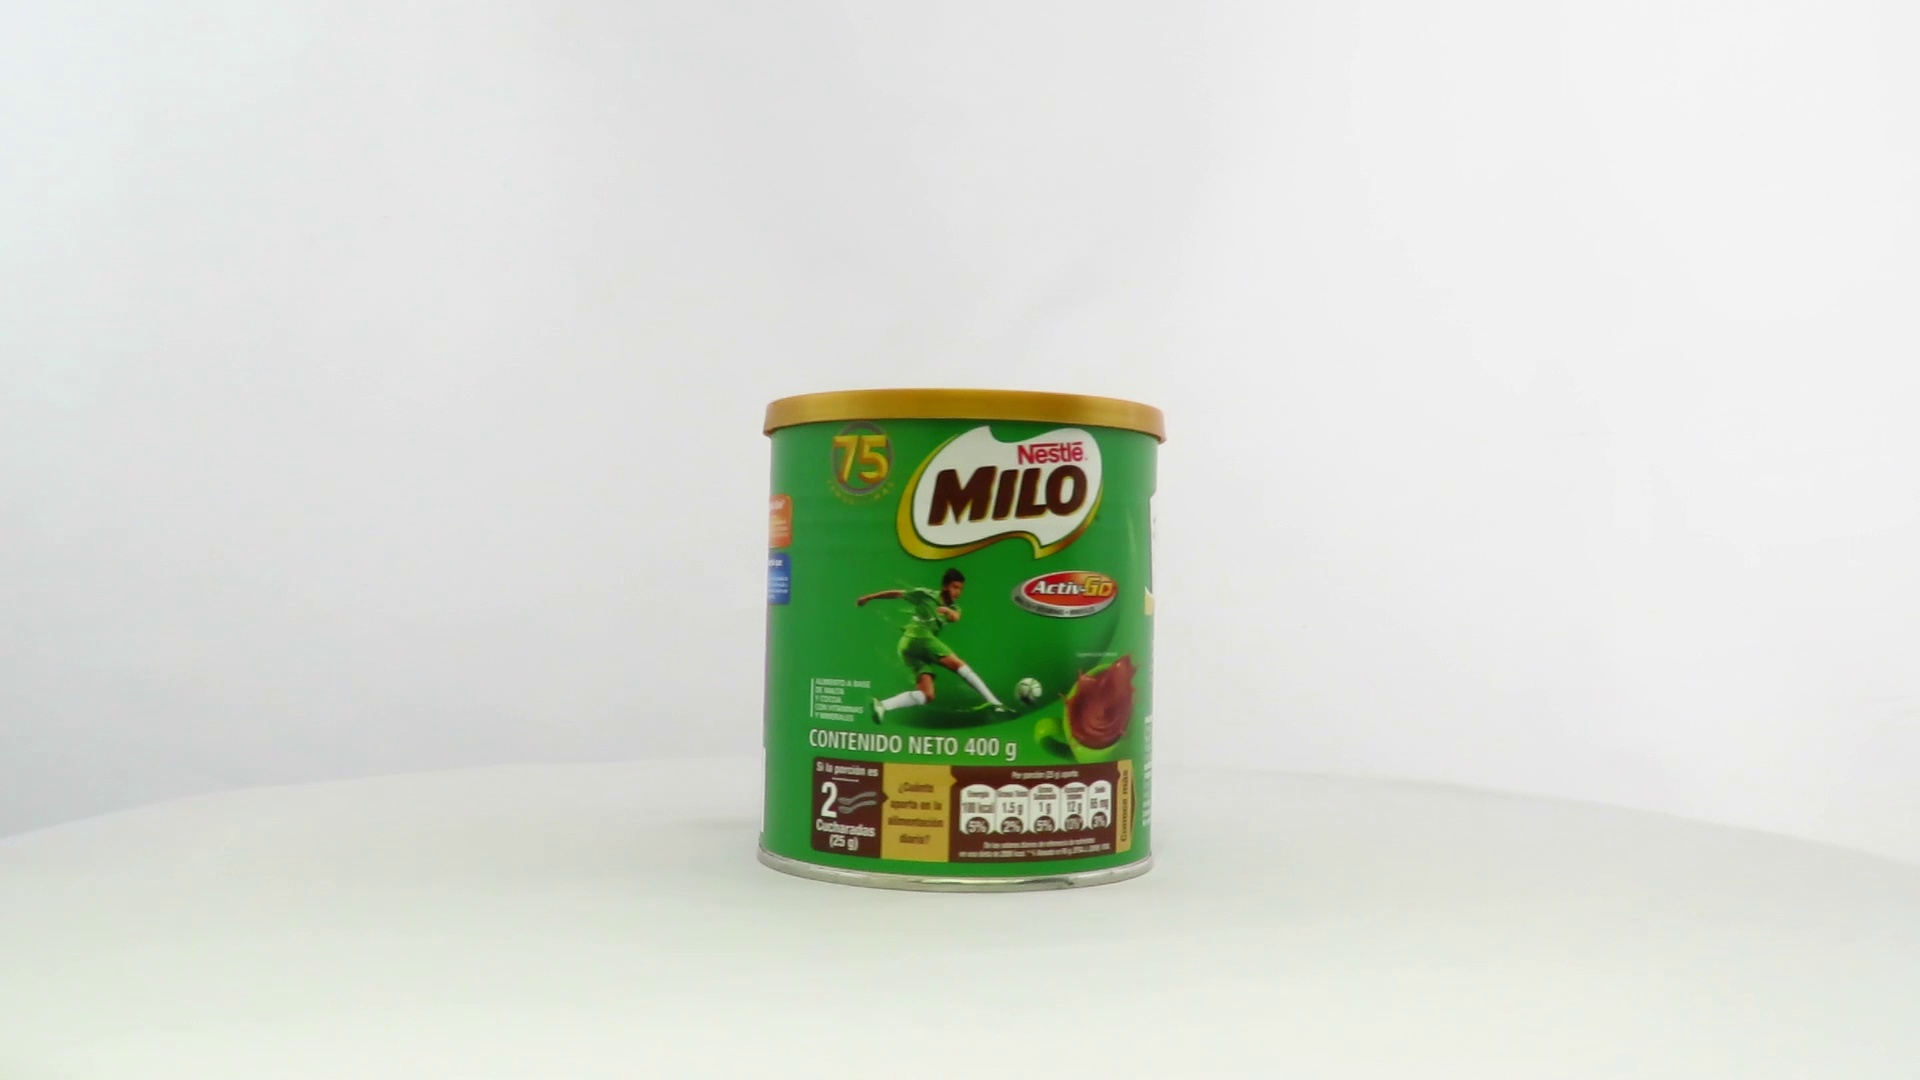COL0170203LAT40000: (752, 382, 1174, 899)
